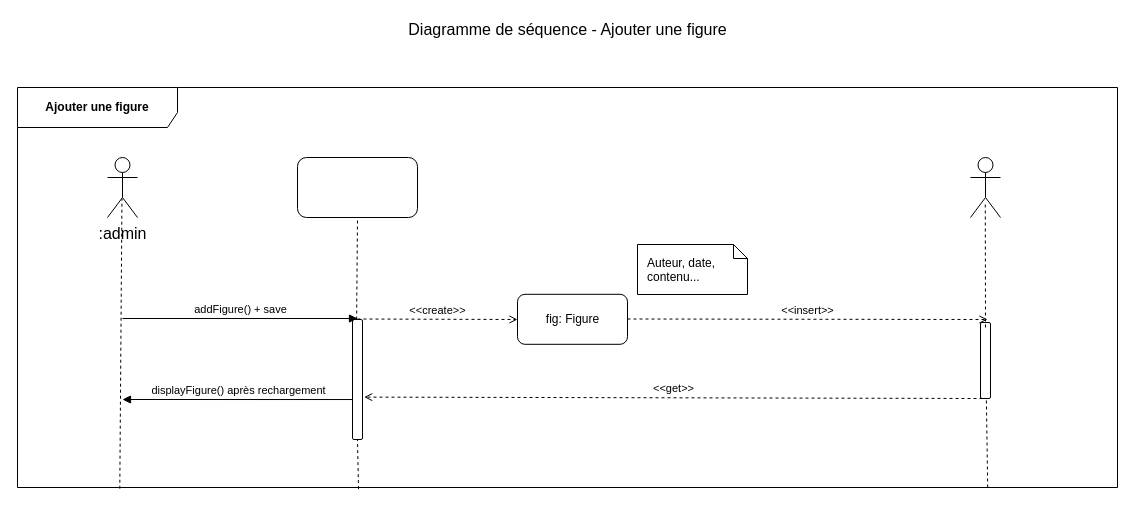
Image size: 1135x508. Some labels were removed from this diagram. The shapes that lost their labels are listed below. From the top down, each one's centre as x and y in pixels, then its label:
At (357,187): ":system".
At (985,187): ":bdd".
